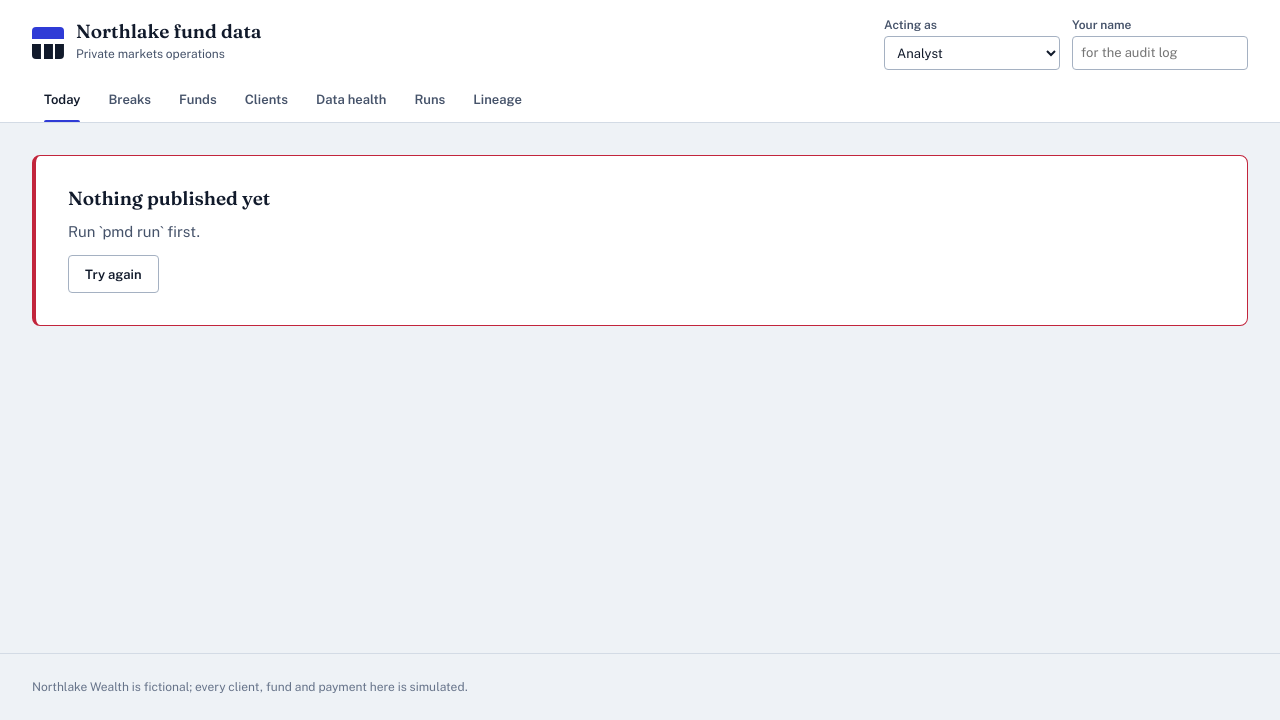
Scenario: today › says what failed and retries
Expected: the message shows "Nothing published yet", [68,186,270,210]
Expected: the message shows "Run `pmd run` first.", [68,223,200,240]
Click the button "Try again".
click(113, 274)  # box [68,255,159,293]
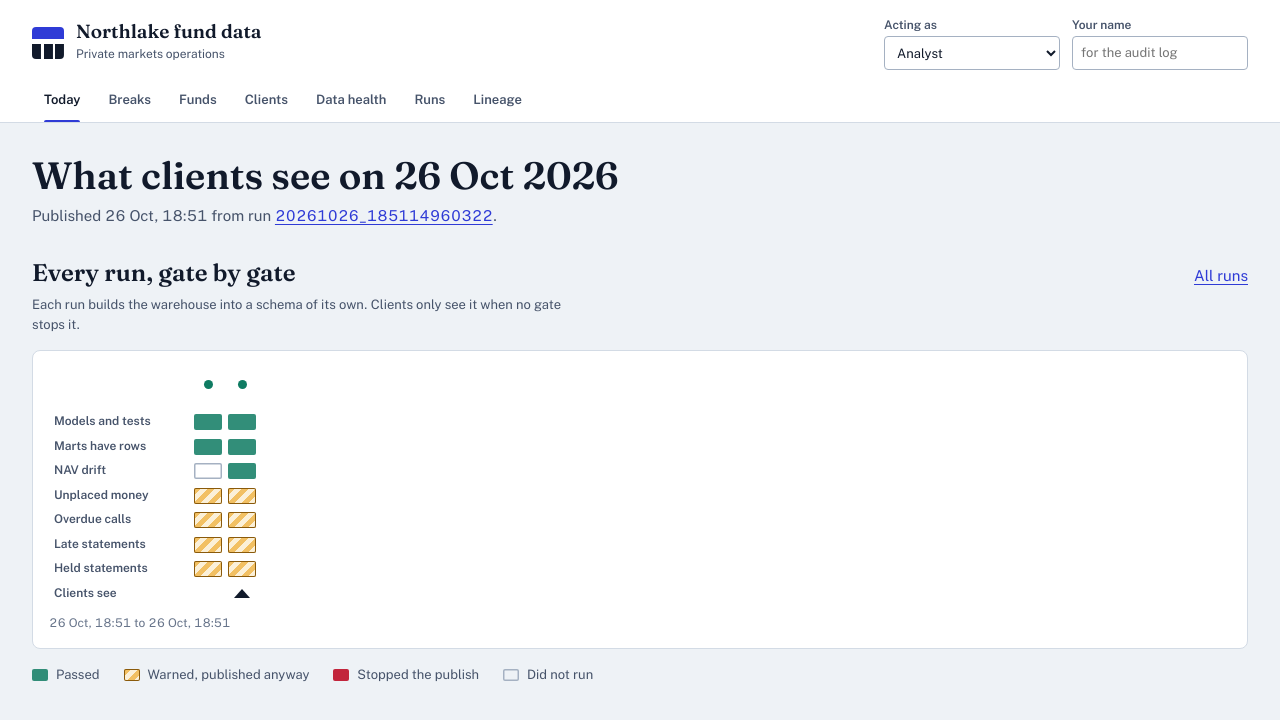
Expected: the heading "What clients see on 26 Oct 2026" is shown, [32,154,619,197]
